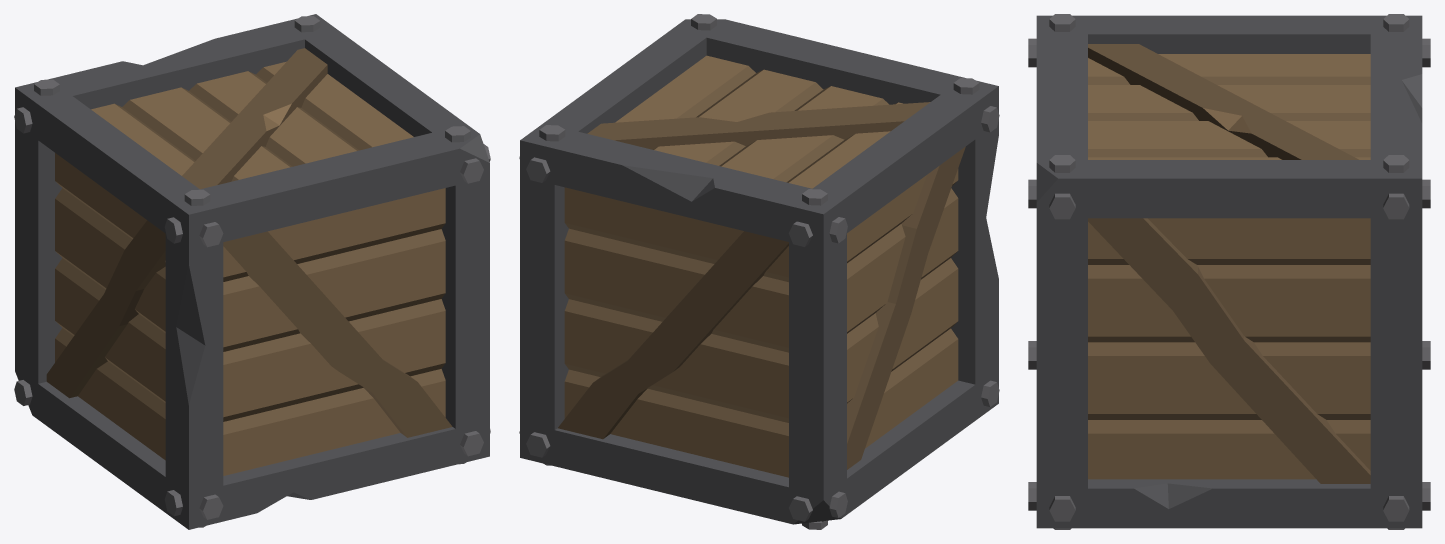
Rendered from SM_Prop_Crate_01.gltf.
3 renders of one model, left to right at view 1: azimuth 30°, elevation 25°; view 2: azimuth 150°, elevation 25°; view 3: azimuth 270°, elevation 25°, orthographic. The views are drawn at different scales.
Parts seen in each view (by area): view 1: SM_Prop_Crate_01; view 2: SM_Prop_Crate_01; view 3: SM_Prop_Crate_01.
Part boxes in pixels (x1,y1,x2,y2): SM_Prop_Crate_01: (14,14,490,529); SM_Prop_Crate_01: (519,14,999,529); SM_Prop_Crate_01: (1028,14,1430,529).
Size of the model in its own units: 0.7997 by 0.7997 by 0.7993.
1 material, 1 textured.
